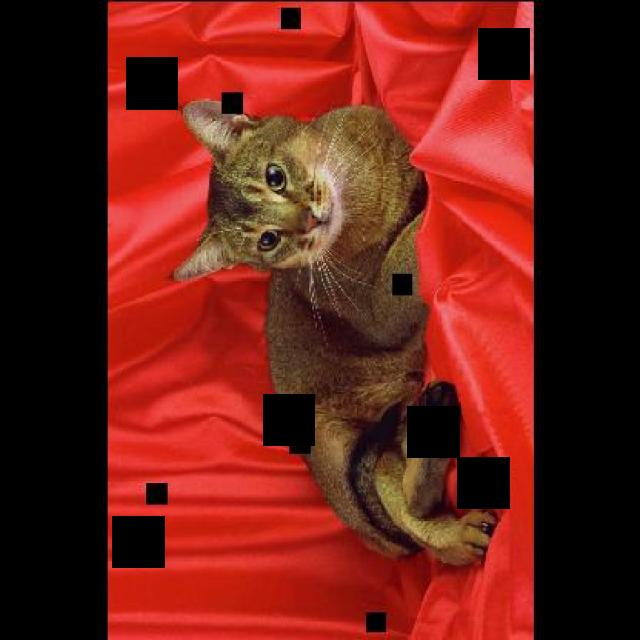unauthorized: (171, 96, 498, 566)
